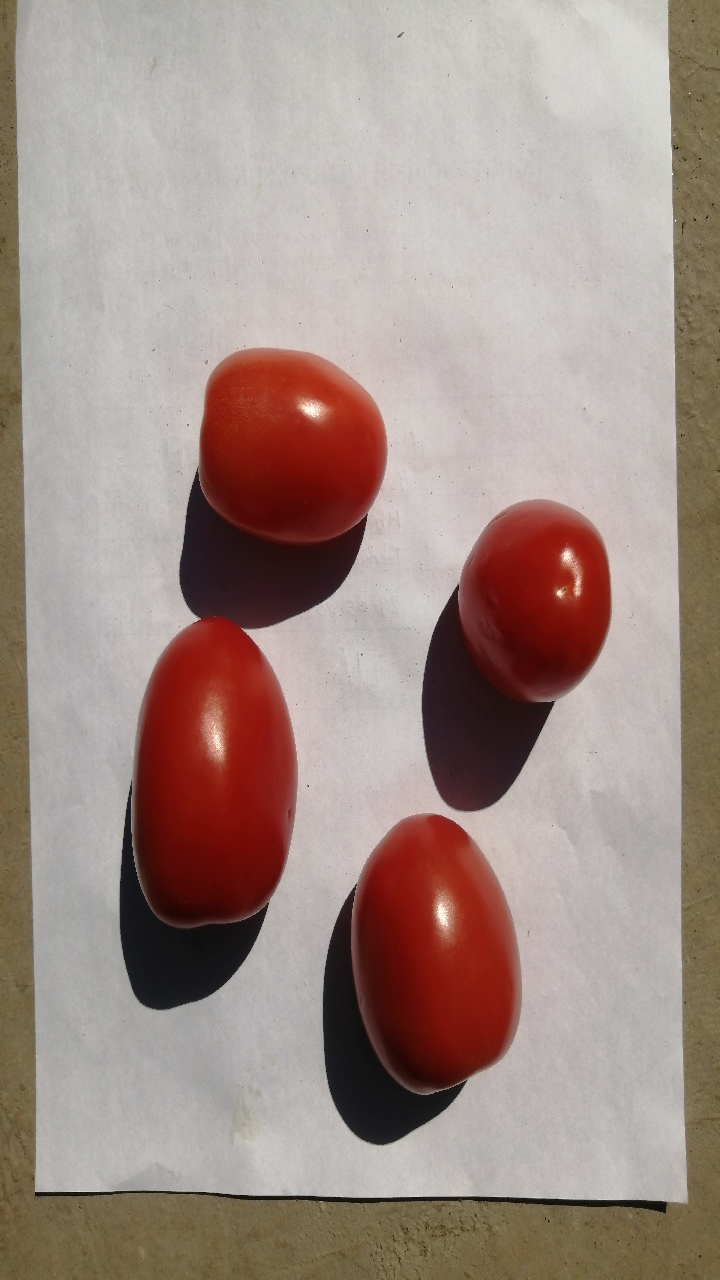tomateRojo: (108, 602, 306, 940), (337, 800, 540, 1108), (171, 323, 408, 560), (440, 482, 631, 720)
